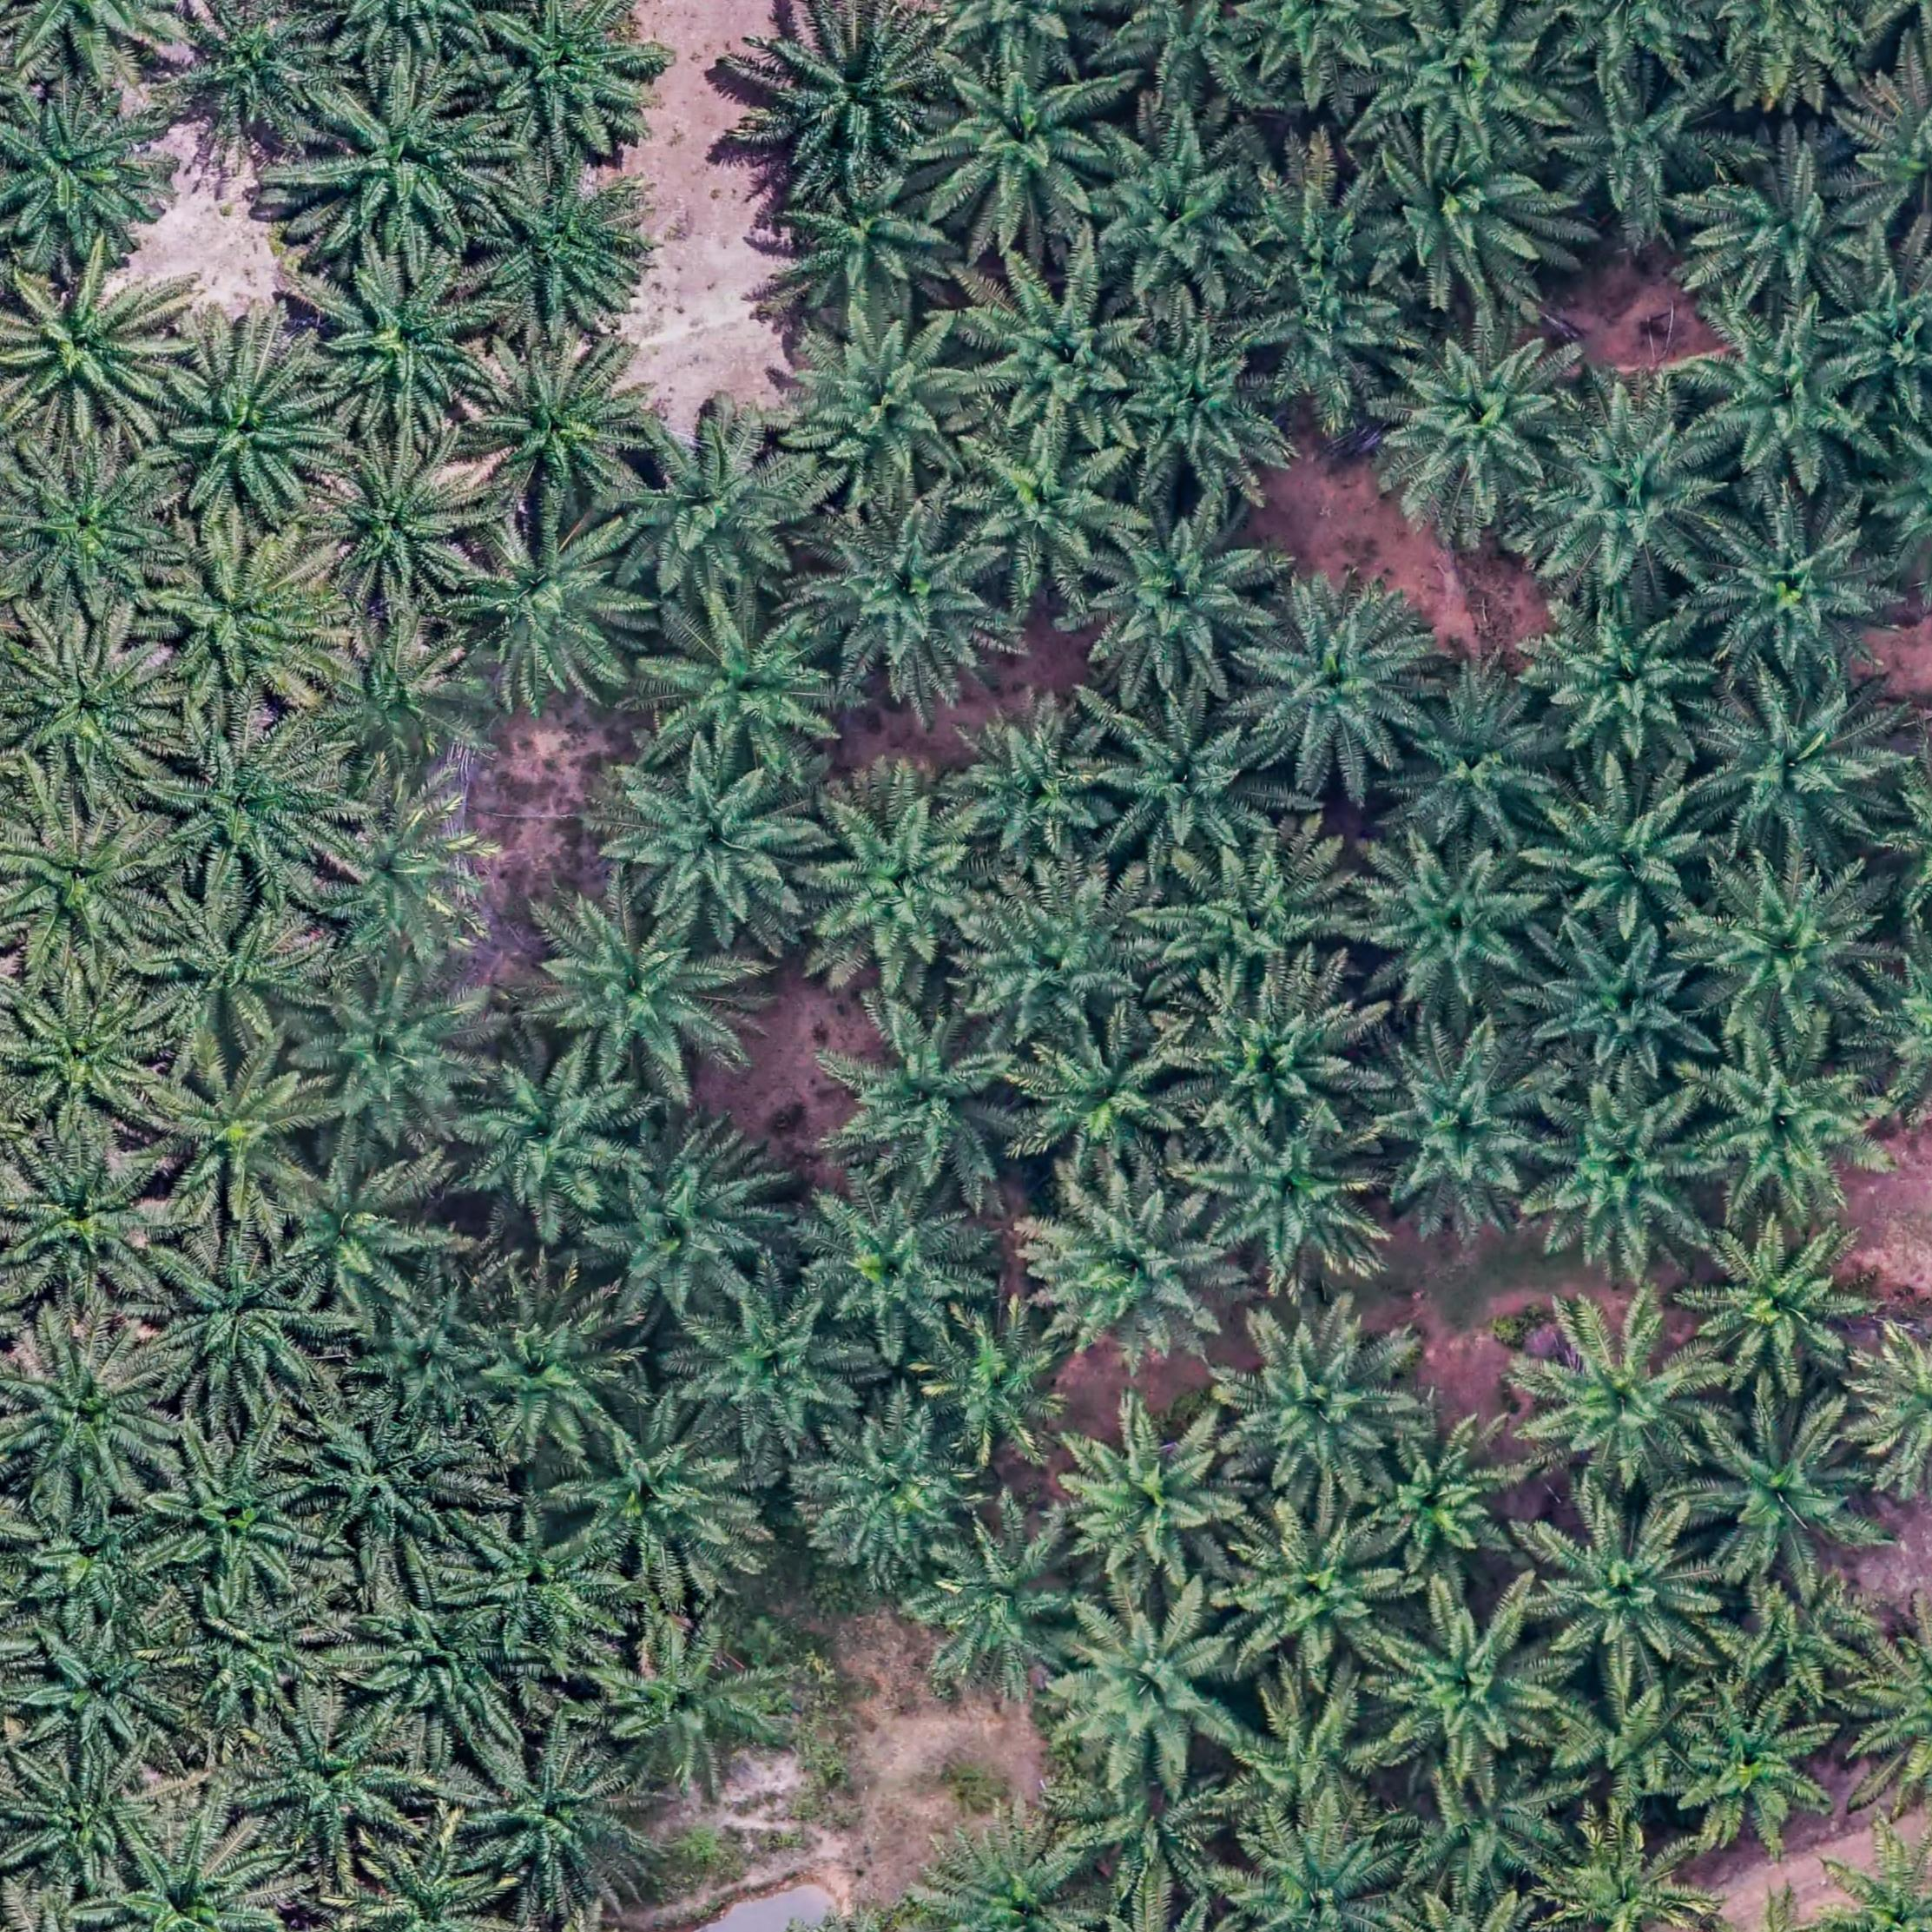palmtree: (520, 888, 752, 1090), (1353, 1016, 1566, 1233), (577, 1111, 791, 1323), (823, 994, 1037, 1201), (1024, 1173, 1246, 1373), (789, 777, 994, 984), (600, 750, 821, 939), (1516, 1076, 1725, 1276), (1688, 1026, 1897, 1223), (1212, 1300, 1415, 1500), (950, 251, 1155, 449), (1238, 579, 1442, 777), (1527, 398, 1725, 602), (1513, 1300, 1723, 1491), (1079, 495, 1281, 694), (1693, 671, 1905, 858), (1686, 1392, 1886, 1591), (1053, 1396, 1253, 1594), (796, 497, 1001, 690), (1348, 839, 1560, 1024), (1368, 1589, 1571, 1782), (775, 313, 978, 504), (1522, 1493, 1721, 1686), (1380, 324, 1580, 515), (1056, 1591, 1253, 1783), (1698, 490, 1900, 678), (303, 65, 506, 249), (1355, 126, 1564, 304), (1686, 1212, 1891, 1392), (1081, 113, 1270, 308), (922, 50, 1122, 234), (292, 966, 497, 1145), (1688, 858, 1890, 1039), (741, 5, 948, 180), (644, 591, 842, 773), (449, 508, 642, 694), (957, 869, 1152, 1051), (1171, 973, 1375, 1146), (451, 1047, 640, 1233), (1688, 315, 1886, 490), (617, 426, 810, 605), (1523, 913, 1714, 1090), (1355, 0, 1568, 159), (1191, 1109, 1385, 1283), (586, 1621, 784, 1790), (1086, 692, 1276, 869), (1387, 667, 1568, 851), (1527, 766, 1718, 939), (1154, 839, 1353, 1003), (152, 341, 336, 520), (1527, 591, 1718, 763), (1221, 1504, 1408, 1677), (458, 1729, 646, 1902), (1697, 147, 1886, 318), (672, 1284, 862, 1456), (315, 791, 499, 966), (796, 1191, 991, 1355), (1661, 1683, 1840, 1859), (913, 1516, 1090, 1693), (559, 1401, 738, 1575), (313, 255, 494, 426), (150, 531, 333, 701), (803, 1407, 982, 1578), (1010, 1017, 1196, 1182), (451, 1499, 626, 1672), (471, 341, 649, 511), (957, 426, 1136, 596), (152, 727, 338, 890), (472, 159, 648, 329), (1113, 320, 1284, 492), (1352, 1417, 1527, 1585), (948, 694, 1123, 862), (5, 1325, 173, 1499), (770, 165, 952, 324), (140, 1428, 313, 1592), (1214, 1683, 1396, 1835), (1707, 1562, 1891, 1713), (149, 1054, 317, 1219), (152, 1235, 320, 1399), (1235, 255, 1410, 412), (138, 901, 317, 1054), (1399, 1753, 1585, 1900), (465, 1295, 632, 1458), (1543, 69, 1720, 219), (317, 446, 485, 603), (7, 1141, 172, 1300), (7, 451, 173, 607), (9, 630, 177, 784), (271, 1155, 430, 1316), (354, 1587, 520, 1741), (19, 1621, 188, 1767), (159, 0, 333, 142), (248, 1704, 412, 1852), (481, 0, 651, 143), (5, 812, 165, 961), (315, 617, 474, 764), (295, 1410, 460, 1552), (9, 984, 166, 1131), (927, 1812, 1111, 1932), (1223, 1815, 1407, 1932), (11, 1752, 165, 1886), (179, 1573, 313, 1727), (1244, 134, 1391, 274), (1537, 1819, 1714, 1932), (103, 1822, 280, 1932), (918, 1327, 1070, 1449), (359, 1297, 492, 1422), (349, 1833, 506, 1932), (1718, 5, 1849, 111), (30, 1493, 147, 1610), (317, 0, 504, 65)
